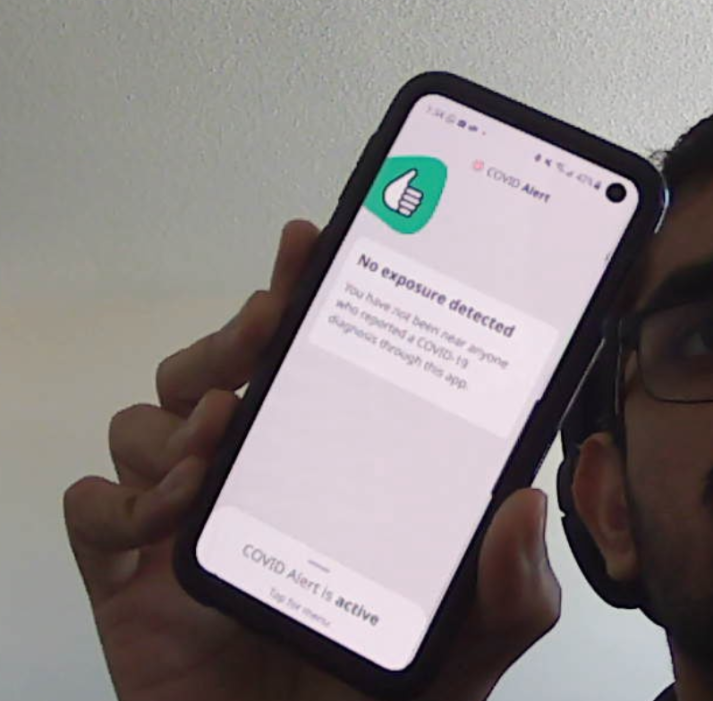Safe: (346, 148, 551, 341)
